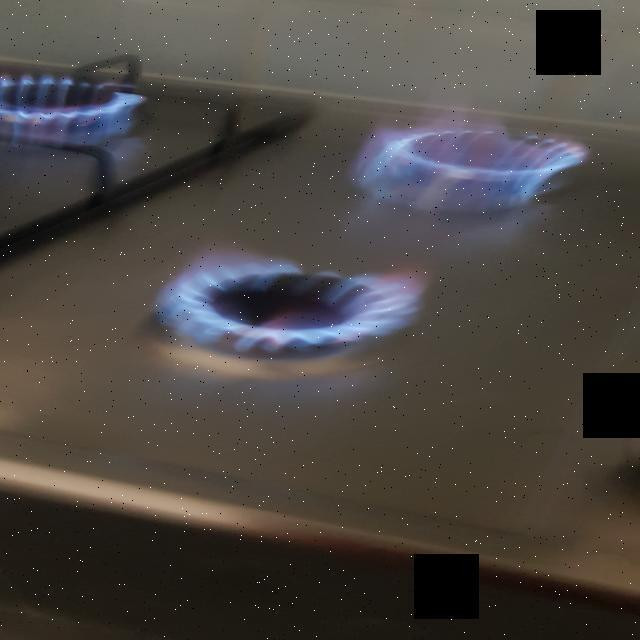Flame: (123, 278, 455, 354), (368, 126, 595, 209), (0, 66, 149, 145)
